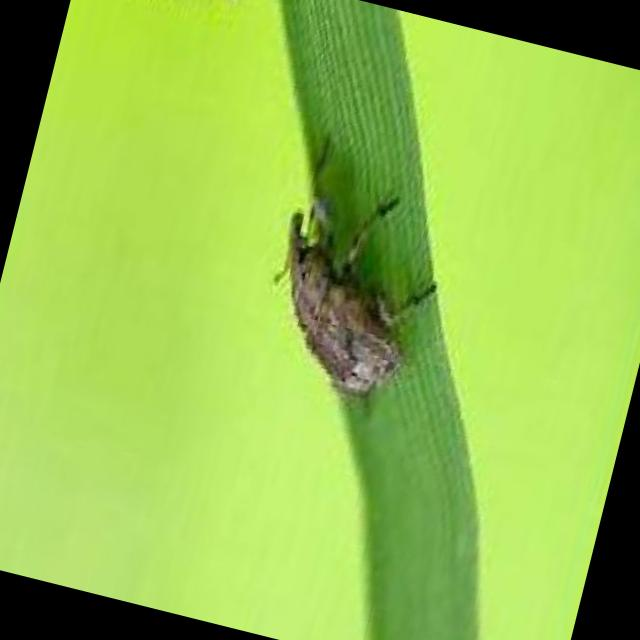rice-bug: (245, 154, 449, 412)
